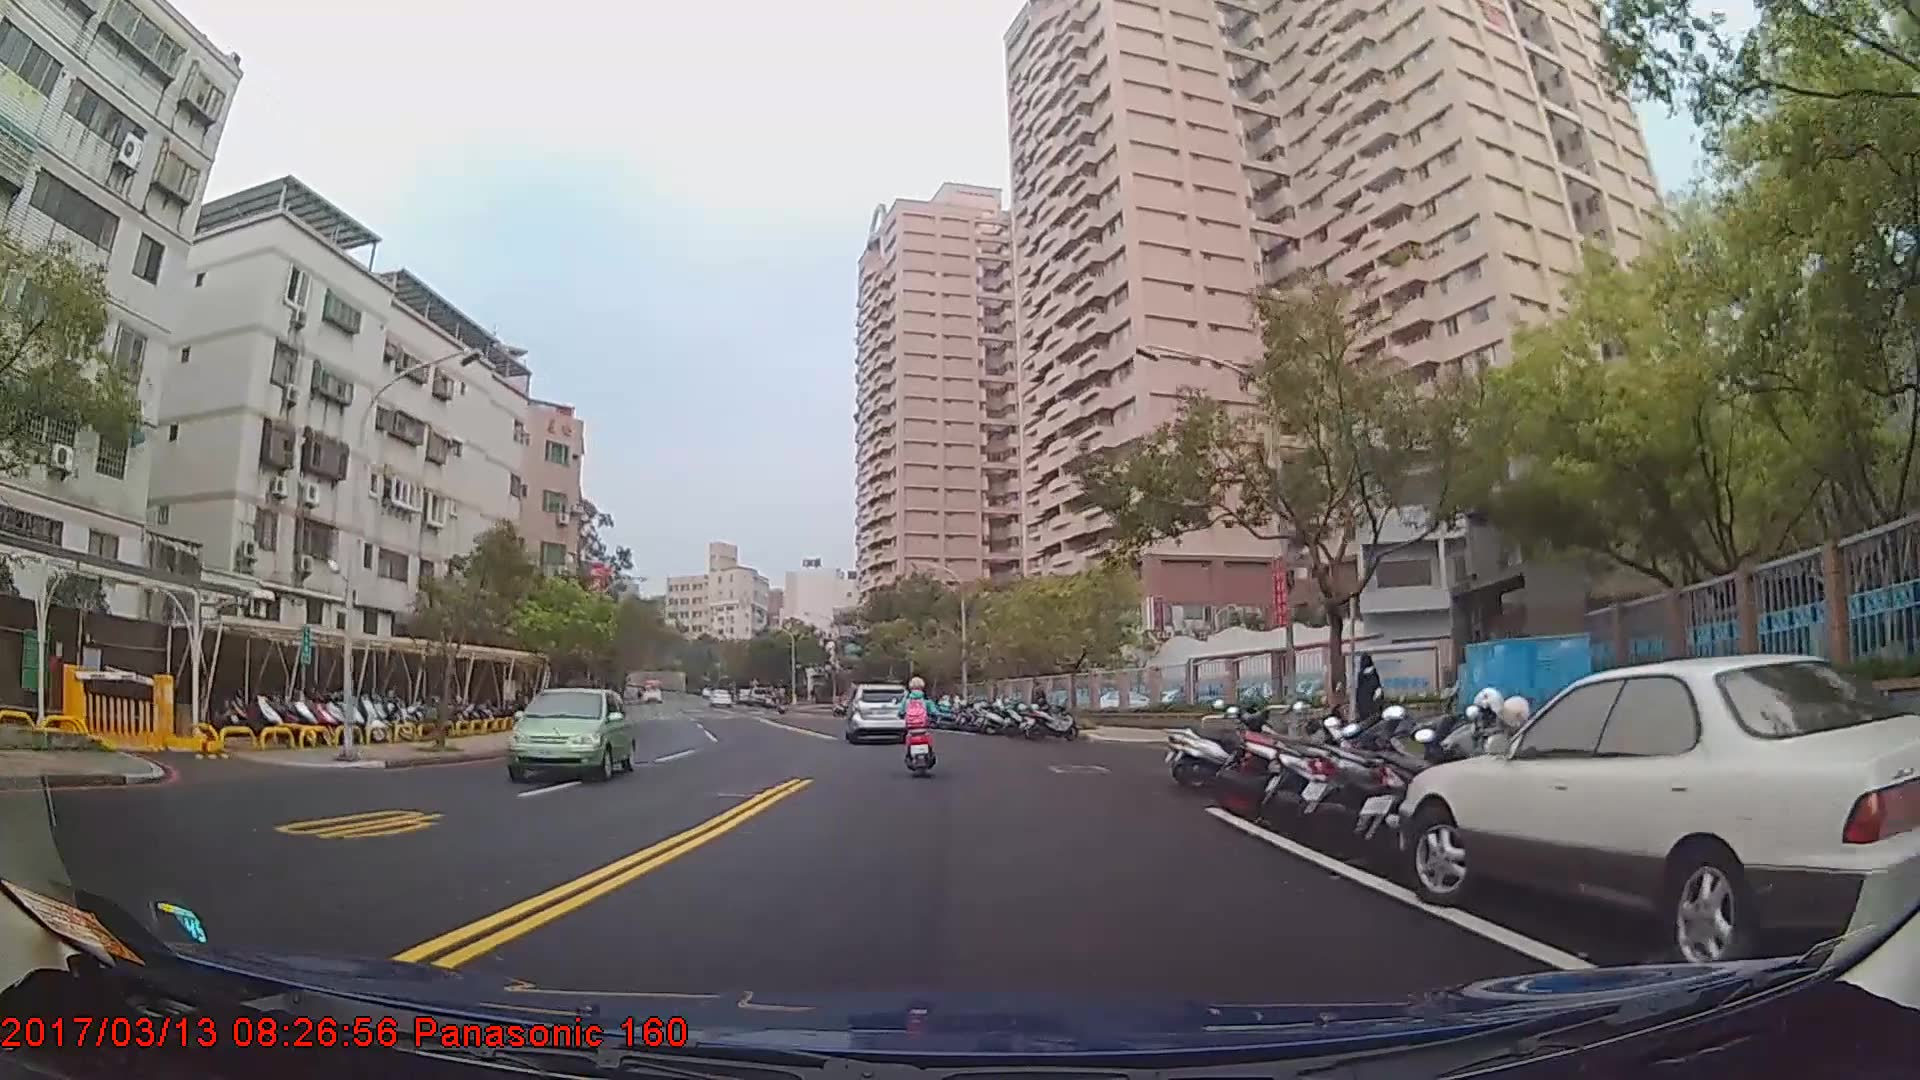pedestrian: (1357, 653, 1387, 759), (1031, 679, 1051, 727)
rider: (900, 675, 940, 781)
vehicle: (1397, 649, 1904, 965), (501, 683, 634, 776), (847, 678, 913, 741), (639, 678, 662, 705)
